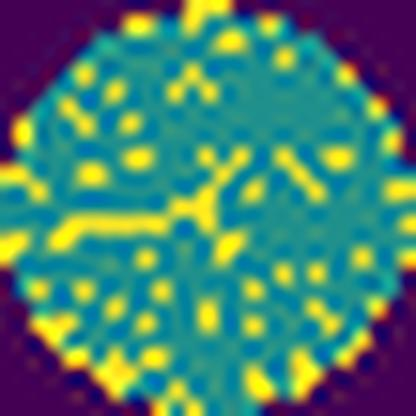Scratch: (47, 137, 253, 270), (272, 145, 328, 209)
